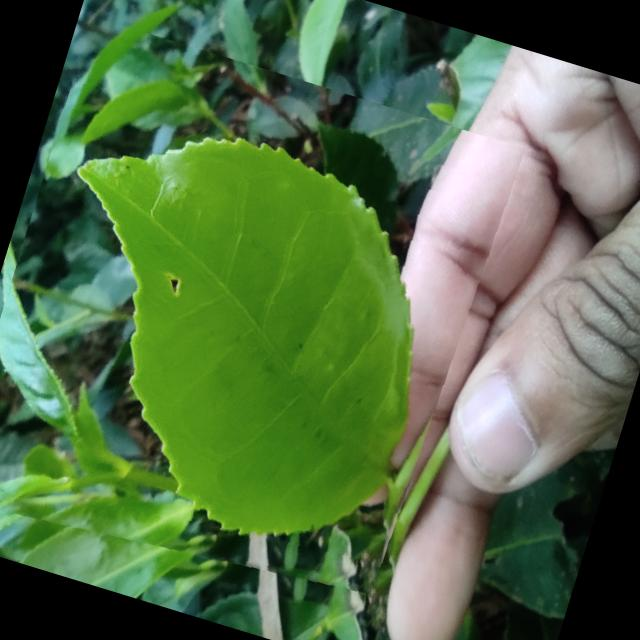Category C 4-7 days: (0, 15, 526, 631)
